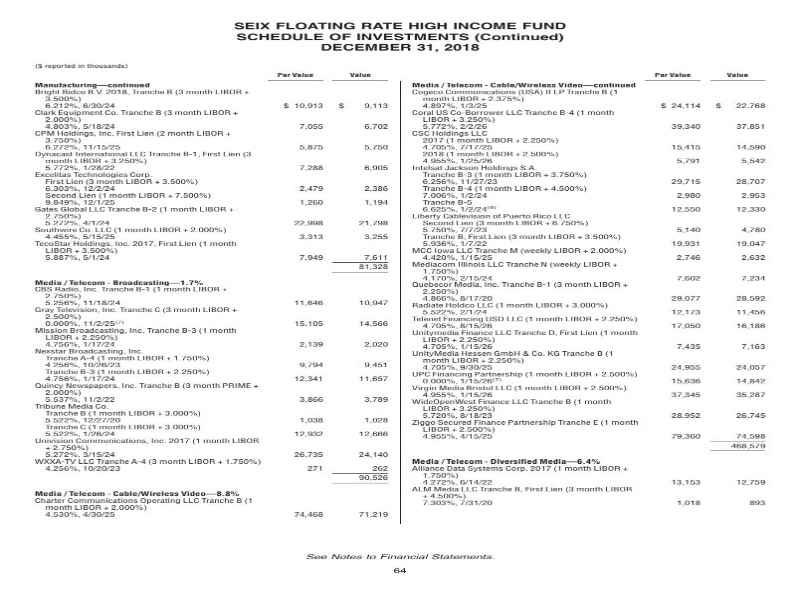table: (11, 55, 408, 534), (393, 62, 789, 533)
